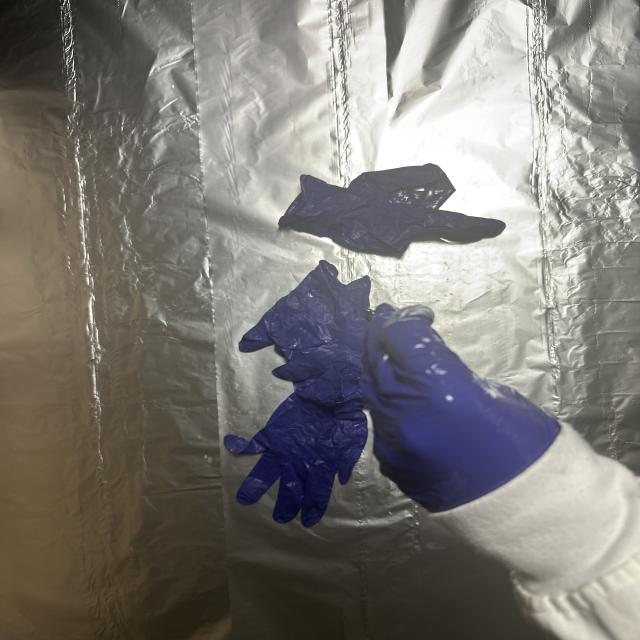gloves_contaminated: (362, 306, 560, 512)
